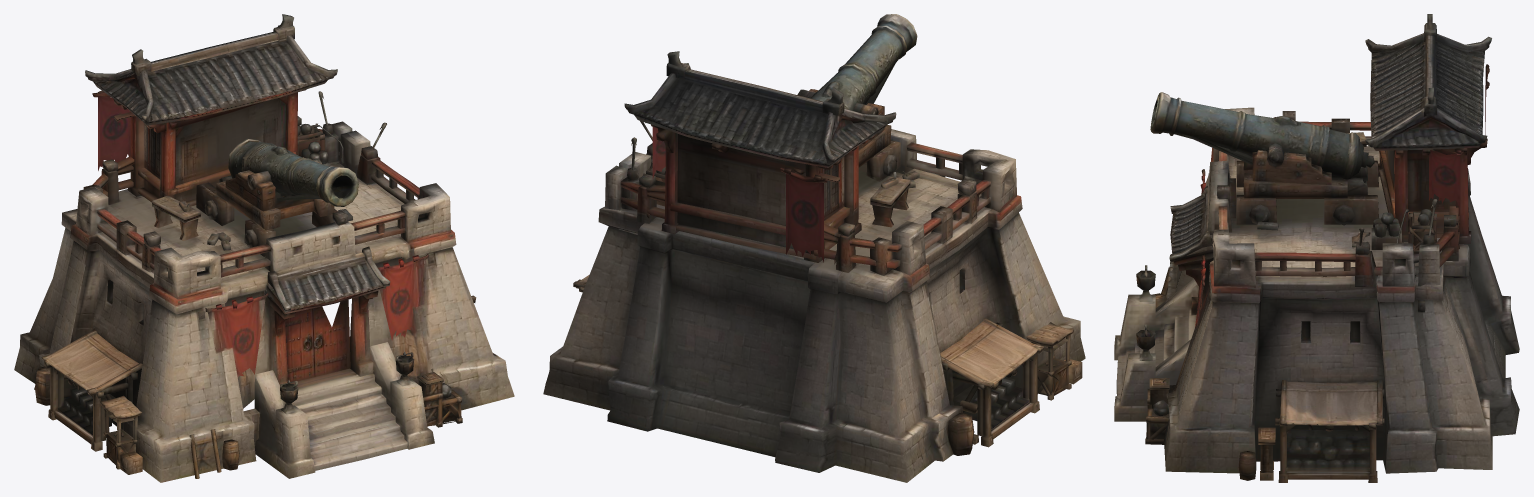
File: GateTower.fbx
3 views of the same model, side by side, from view 1: azimuth 30°, elevation 25°; view 2: azimuth 150°, elevation 25°; view 3: azimuth 270°, elevation 25° (orthographic). The views are drawn at different scales.
Parts seen in each view (by area): view 1: stone fortress 3d model; view 2: stone fortress 3d model; view 3: stone fortress 3d model.
Boxes of the visible parts, x1,y1,x2,y2 form: stone fortress 3d model: (14, 14, 514, 482); stone fortress 3d model: (543, 14, 1085, 482); stone fortress 3d model: (1114, 14, 1519, 482).
Bounding box in the file's own units: 99.95 × 79.15 × 86.47.
